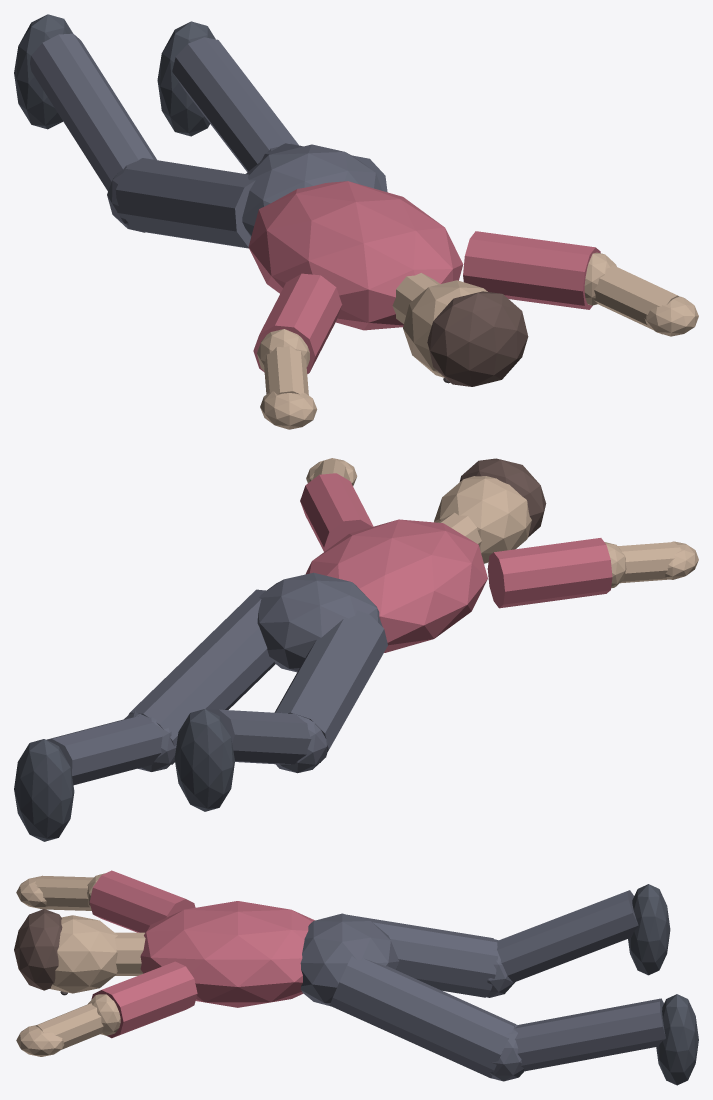
3 renders of one model, top to bottom at view 1: azimuth 30°, elevation 25°; view 2: azimuth 150°, elevation 25°; view 3: azimuth 270°, elevation 25°, orthographic. The views are drawn at different scales.
Visible parts, largest first — view 1: world; view 2: world; view 3: world.
Part boxes in pixels (x1=…): world: x1=14, y1=14, x2=698, y2=429; world: x1=14, y1=458, x2=698, y2=841; world: x1=14, y1=870, x2=698, y2=1085.
Size of the model in its own units: 1.17 by 0.4556 by 2.04.
